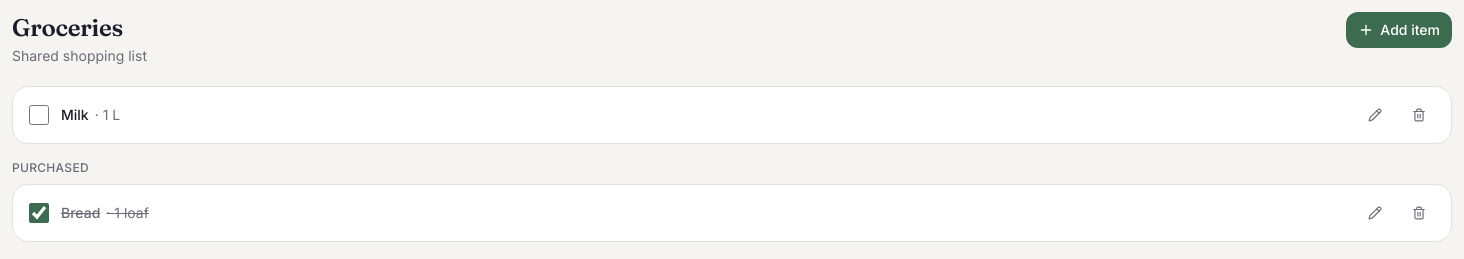
GroceryPage › deletes item from the list
Expected: the text "Milk" is shown, [61,106,89,123]
Click the button named "delete milk" at (1419, 115), box [1403,99,1435,131]
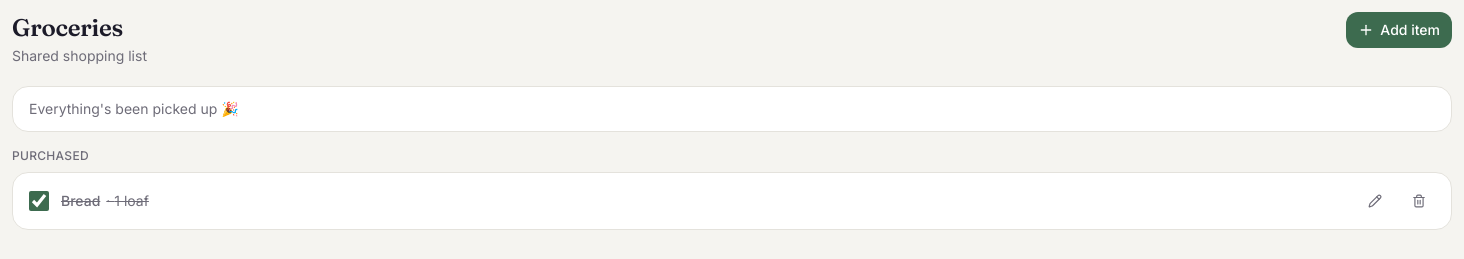
Expected: the text "Milk" is gone
